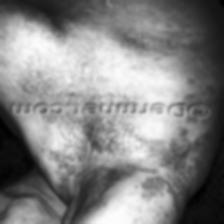Non-Cancerous Skin Condition: (98, 125, 210, 191), (106, 20, 181, 66), (2, 0, 88, 26)
